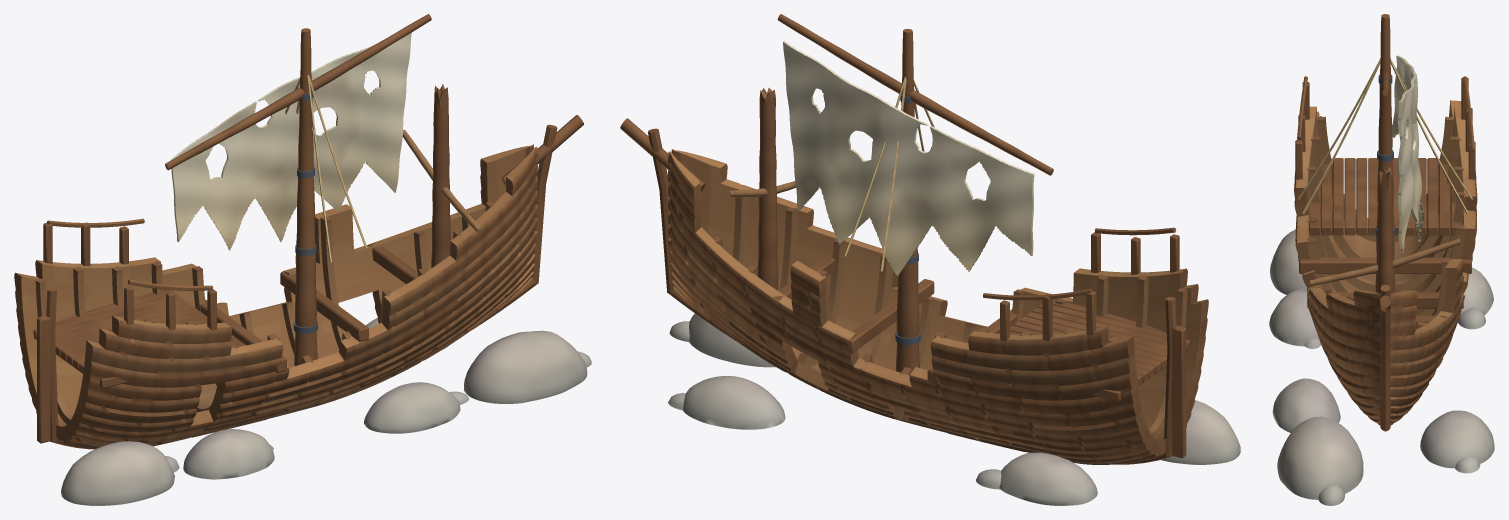
File: CC_B06_Shipwreck.fbx
3 views of the same model, side by side, from view 1: azimuth 30°, elevation 25°; view 2: azimuth 150°, elevation 25°; view 3: azimuth 270°, elevation 25° (orthographic). The views are drawn at different scales.
Visible parts, largest first — view 1: Hull_LOD0, Sail_LOD0, Rocks_LOD0, Mast_01_LOD0, Mast_02_LOD0; view 2: Hull_LOD0, Sail_LOD0, Rocks_LOD0, Mast_01_LOD0, Mast_02_LOD0; view 3: Hull_LOD0, Rocks_LOD0, Mast_01_LOD0, Sail_LOD0, Mast_02_LOD0.
Part boxes in pixels (<box>): Hull_LOD0: <box>14,115,583,449</box>; Sail_LOD0: <box>171,33,411,250</box>; Rocks_LOD0: <box>61,317,591,505</box>; Mast_01_LOD0: <box>165,14,431,365</box>; Mast_02_LOD0: <box>402,84,481,268</box>; Hull_LOD0: <box>620,118,1208,464</box>; Sail_LOD0: <box>783,40,1034,276</box>; Rocks_LOD0: <box>668,313,1240,505</box>; Mast_01_LOD0: <box>777,14,1053,372</box>; Mast_02_LOD0: <box>726,88,795,290</box>; Hull_LOD0: <box>1294,76,1477,431</box>; Rocks_LOD0: <box>1269,229,1494,505</box>; Mast_01_LOD0: <box>1298,14,1472,292</box>; Sail_LOD0: <box>1392,55,1424,252</box>; Mast_02_LOD0: <box>1310,167,1461,293</box>.
Size of what is drawn, in the model's own units: 14 by 9 by 5.
